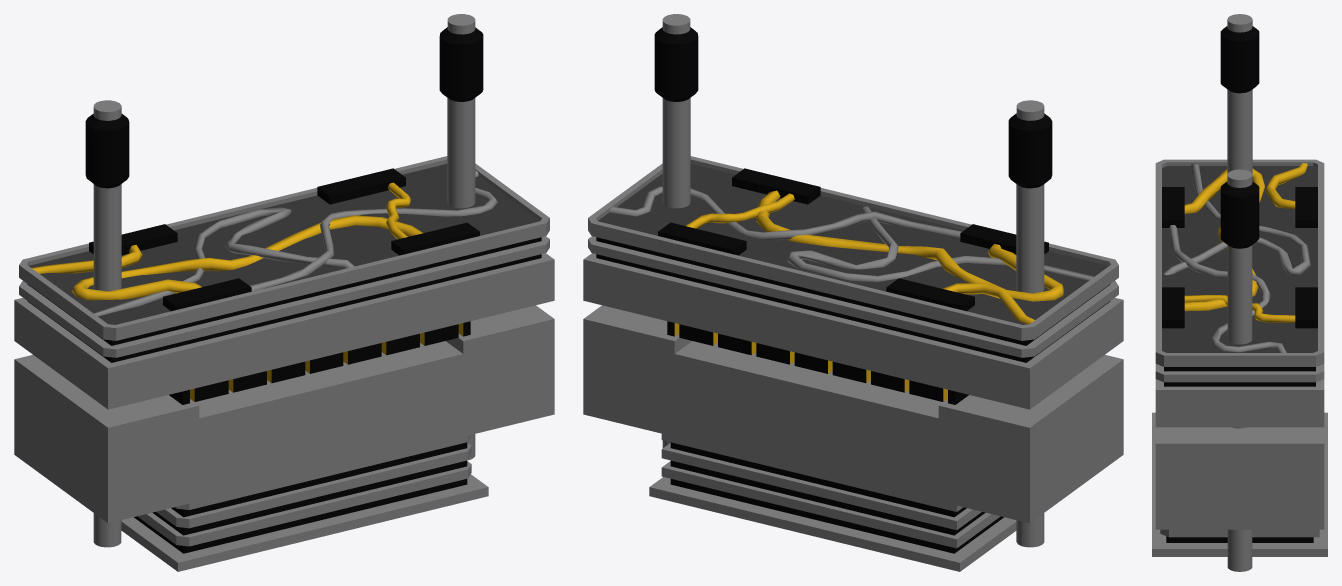
Rendered from StamperRobot.fbx.
3 renders of one model, left to right at view 1: azimuth 30°, elevation 25°; view 2: azimuth 150°, elevation 25°; view 3: azimuth 270°, elevation 25°, orthographic. The views are drawn at different scales.
Parts seen in each view (by area): view 1: Bottom stap, Top stamp, Cylinder, BézierCurve.007, BézierCurve.005, BézierCurve.006, BézierCurve.009, BézierCurve.008; view 2: Bottom stap, Top stamp, Cylinder, BézierCurve.007, BézierCurve.005, BézierCurve.006, BézierCurve.009, BézierCurve.008; view 3: Top stamp, Bottom stap, Cylinder, BézierCurve.005, BézierCurve.006, BézierCurve.007, BézierCurve.009, BézierCurve.008.
Part boxes in pixels (x1,y1,x2,y2): Bottom stap: (14,305,554,571); Top stamp: (14,156,554,409); Cylinder: (85,14,483,547); BézierCurve.007: (72,215,423,300); BézierCurve.005: (93,207,354,316); BézierCurve.006: (250,170,497,291); BézierCurve.009: (32,244,142,273); BézierCurve.008: (386,182,410,239); Bottom stap: (583,305,1123,571); Top stamp: (583,156,1123,409); Cylinder: (654,14,1052,547); BézierCurve.007: (756,190,1064,301); BézierCurve.005: (787,206,1094,281); BézierCurve.006: (609,186,961,240); BézierCurve.009: (942,283,1034,324); BézierCurve.008: (686,193,794,228); Top stamp: (1155,159,1324,427); Bottom stap: (1152,412,1327,556); Cylinder: (1220,14,1259,571); BézierCurve.005: (1163,164,1310,276); BézierCurve.006: (1169,225,1286,352); BézierCurve.007: (1184,168,1264,311); BézierCurve.009: (1265,163,1307,208); BézierCurve.008: (1184,295,1295,322).
Bounding box in the file's own units: 550 × 513 × 208.
